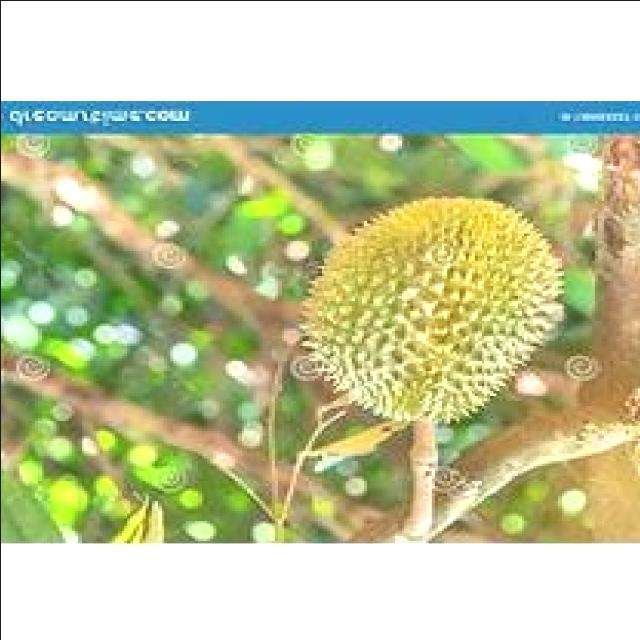agrume: (286, 193, 572, 438)
